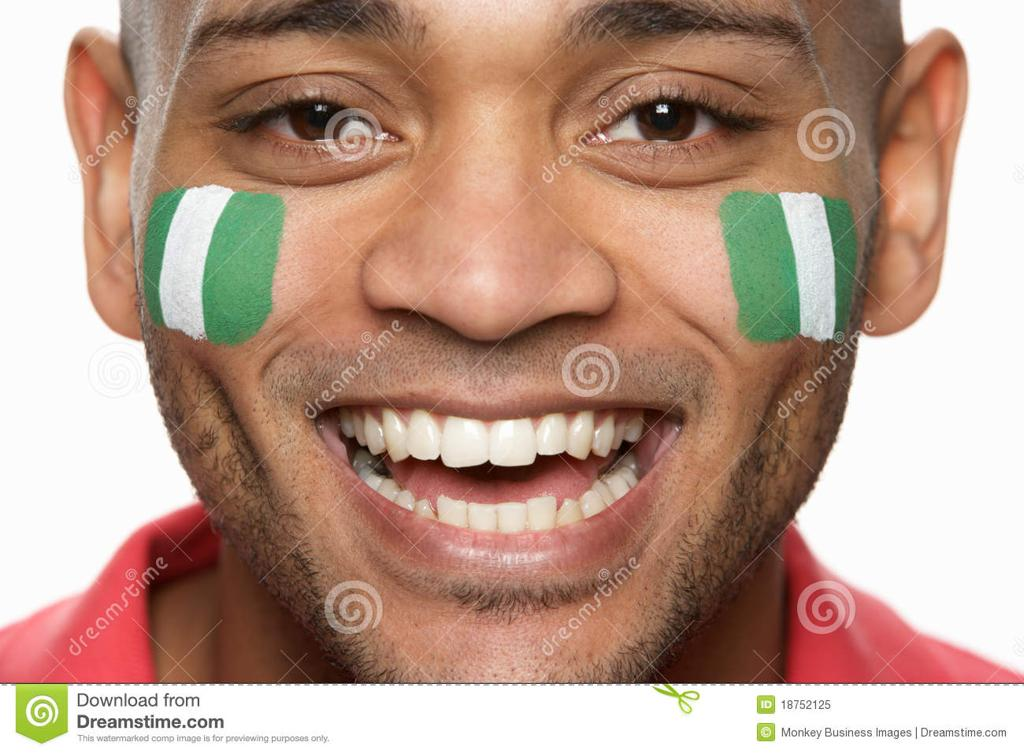face: (122, 2, 874, 690)
